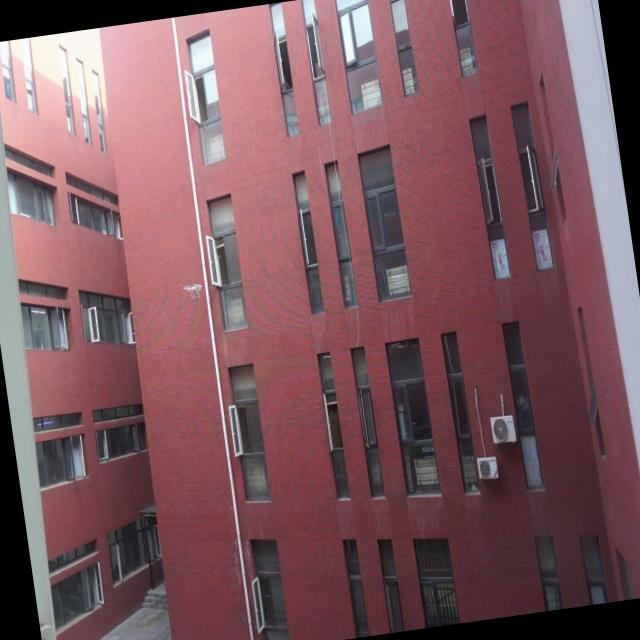drone: (182, 280, 205, 302)
